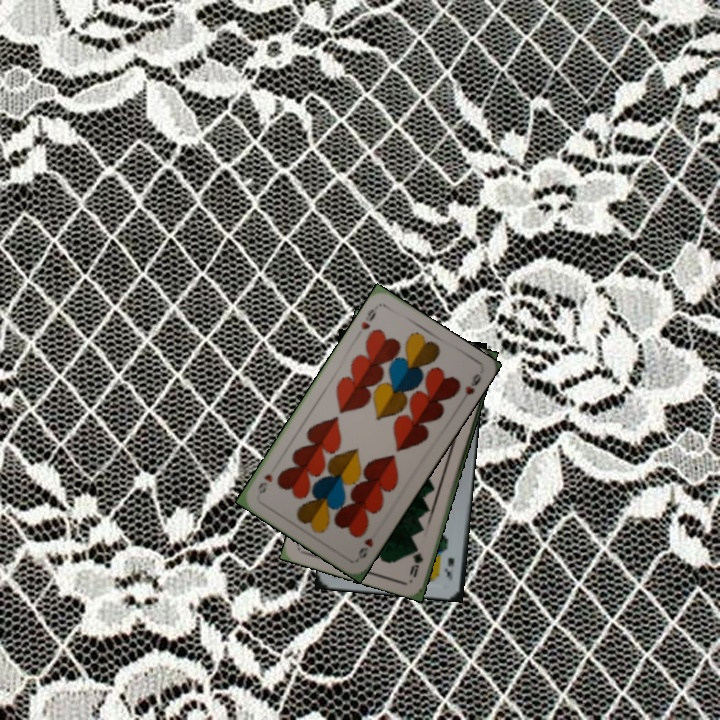EK: (441, 554, 457, 583)
G9: (405, 541, 426, 580)
H9: (354, 533, 376, 561), (357, 305, 379, 332)
